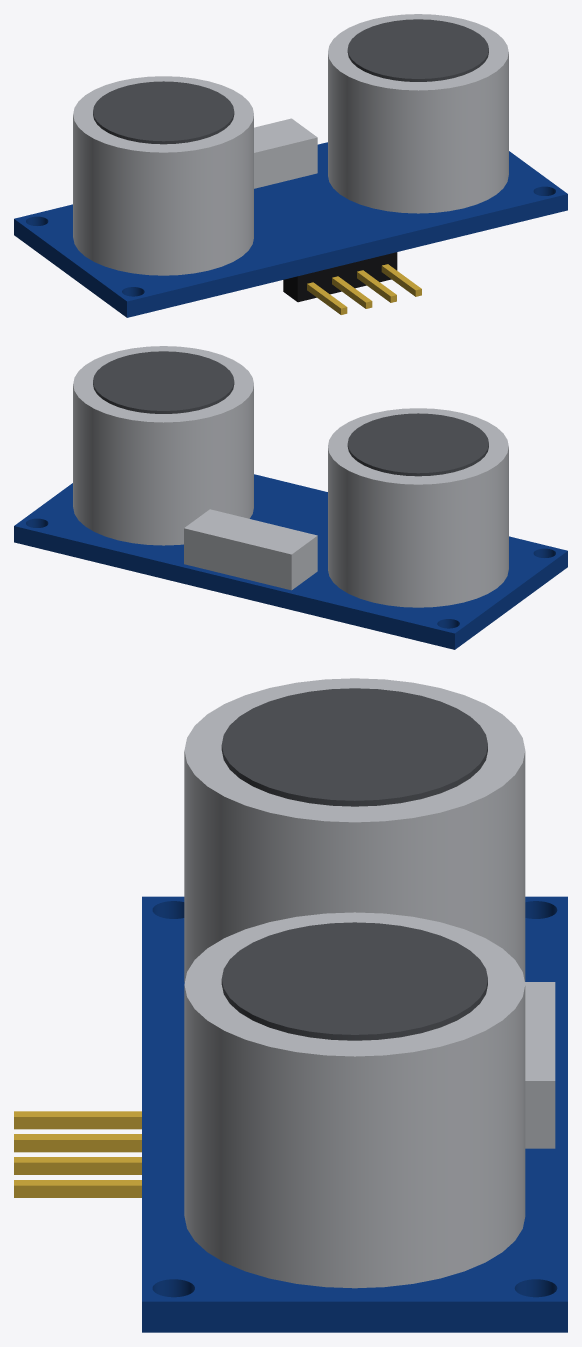
3 views of the same model, one above another, from view 1: azimuth 30°, elevation 25°; view 2: azimuth 150°, elevation 25°; view 3: azimuth 270°, elevation 25° (orthographic). The views are drawn at different scales.
Parts seen in each view (by area): view 1: transdutores, pcb, tela, base, nc_pinos; view 2: transdutores, pcb, tela; view 3: transdutores, pcb, tela, nc_pinos.
Boxes of the visible parts, left/top/right/bottom form: transdutores: left=73, top=14, right=508, bottom=275; pcb: left=14, top=142, right=567, bottom=317; tela: left=93, top=19, right=488, bottom=144; base: left=283, top=252, right=397, bottom=302; nc_pinos: left=307, top=264, right=421, bottom=314; transdutores: left=73, top=346, right=508, bottom=607; pcb: left=14, top=474, right=567, bottom=649; tela: left=93, top=351, right=488, bottom=476; transdutores: left=184, top=678, right=555, bottom=1288; pcb: left=142, top=896, right=567, bottom=1332; tela: left=221, top=688, right=487, bottom=1040; nc_pinos: left=14, top=1111, right=141, bottom=1197.
Size of the model in its own units: 45 by 16.44 by 26.
